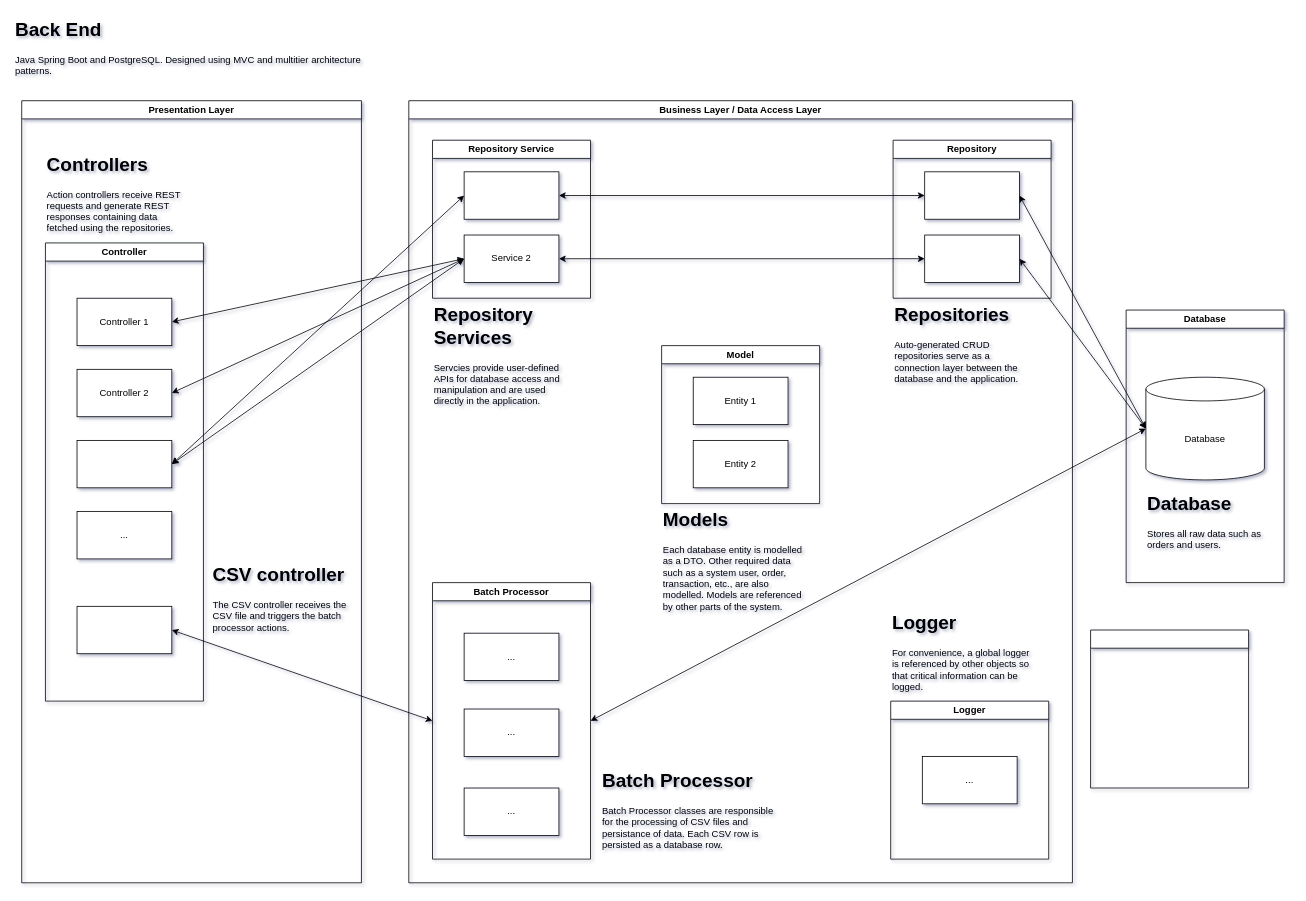
The diagram is 1306 pixels wide and 901 high, and some of its shapes have lost their labels. The shapes that lost their labels are listed below. From the top down, each one's centre as x and y in pixels, then its label:
At (x=511, y=195): "Service 1".
At (x=971, y=195): "Repository 1".
At (x=971, y=258): "Repository 2".
At (x=124, y=464): "Controller 3".
At (x=124, y=630): "CSV File POST Controller".
At (x=1169, y=708): "Authentication".
